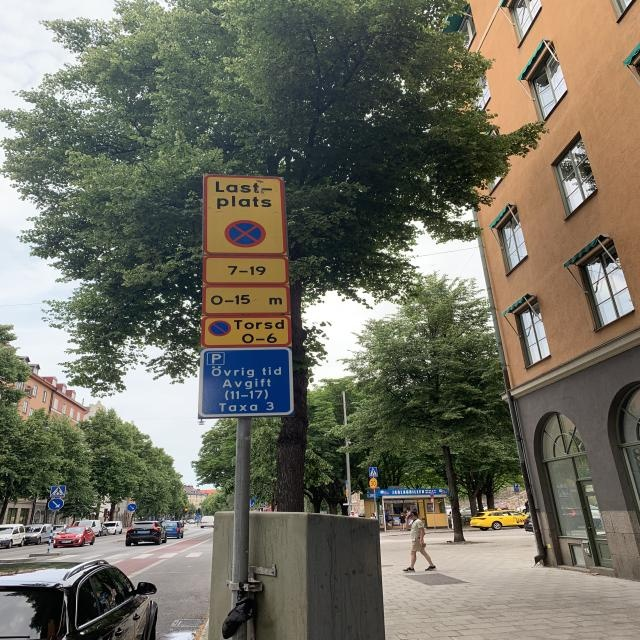lastplats: (200, 171, 291, 257)
